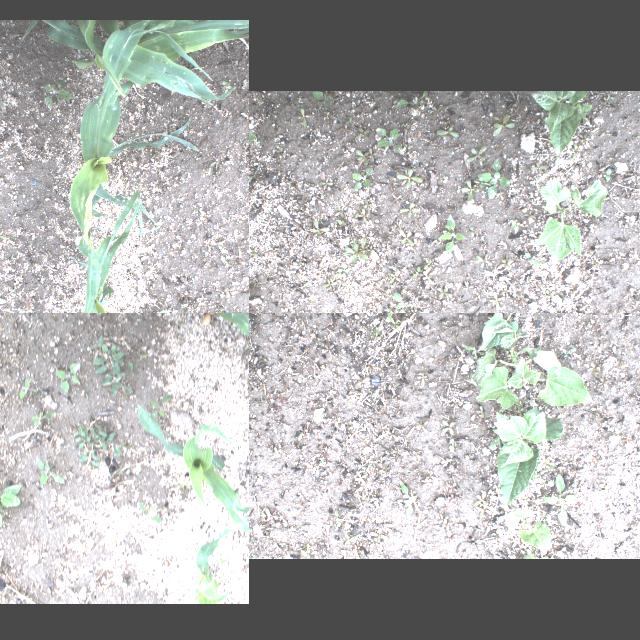crop: (66, 62, 200, 255), (20, 20, 249, 104), (136, 405, 249, 548), (72, 191, 153, 313), (466, 334, 592, 408), (491, 396, 563, 506), (532, 180, 606, 262), (529, 90, 589, 156), (192, 528, 232, 604), (482, 313, 560, 348), (504, 507, 552, 551)
weed: (179, 313, 249, 361), (88, 337, 132, 398), (72, 424, 120, 468), (540, 474, 576, 526), (476, 157, 508, 200), (438, 212, 467, 254), (0, 471, 21, 526), (45, 82, 75, 110), (342, 236, 372, 264), (374, 128, 404, 154), (37, 459, 65, 486), (54, 362, 78, 392), (395, 91, 429, 109), (399, 482, 417, 516), (149, 394, 171, 420), (396, 168, 422, 188), (492, 114, 514, 136), (139, 503, 163, 523), (364, 322, 384, 346), (459, 178, 478, 202), (350, 168, 370, 190), (310, 90, 336, 106), (30, 410, 56, 426), (294, 106, 312, 128), (308, 219, 330, 237), (355, 148, 375, 166), (367, 528, 389, 544), (399, 202, 419, 218), (435, 125, 459, 138), (397, 228, 413, 246), (393, 289, 405, 313), (438, 419, 456, 435), (466, 146, 486, 160), (571, 104, 591, 118), (473, 254, 492, 268), (524, 252, 540, 268), (472, 490, 486, 508), (352, 374, 370, 388), (529, 160, 547, 173), (499, 254, 513, 270), (477, 504, 493, 518), (20, 378, 30, 400), (490, 291, 500, 311), (414, 420, 428, 434), (318, 178, 334, 190), (388, 268, 400, 284), (434, 286, 450, 298), (353, 470, 365, 486), (358, 207, 369, 223), (372, 313, 407, 318), (417, 369, 427, 386), (516, 294, 530, 306), (322, 278, 336, 290), (296, 426, 308, 440), (570, 142, 580, 158), (602, 166, 612, 182), (422, 270, 432, 286), (338, 262, 348, 278), (588, 362, 598, 378), (342, 534, 358, 544), (332, 272, 343, 286), (389, 317, 401, 329), (522, 210, 536, 220), (362, 200, 372, 214), (334, 204, 344, 218), (418, 478, 432, 488), (424, 470, 438, 480), (521, 554, 555, 558), (342, 288, 353, 300), (411, 267, 422, 279), (385, 428, 397, 439), (448, 438, 456, 454), (148, 309, 179, 313), (432, 105, 442, 117), (510, 220, 520, 232), (538, 285, 550, 295), (500, 286, 510, 298), (353, 206, 363, 218), (358, 129, 368, 139), (578, 133, 588, 143), (249, 247, 258, 257), (462, 282, 473, 290), (603, 96, 613, 104), (427, 259, 437, 267), (376, 291, 386, 299), (328, 288, 338, 296), (368, 459, 378, 467), (379, 466, 389, 474), (344, 116, 352, 124), (336, 219, 346, 225), (468, 226, 474, 236), (409, 307, 419, 313), (216, 558, 226, 564), (177, 482, 185, 488), (6, 374, 12, 380)
